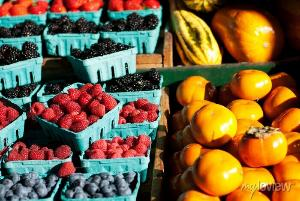persimmon: (172, 74, 300, 200)
